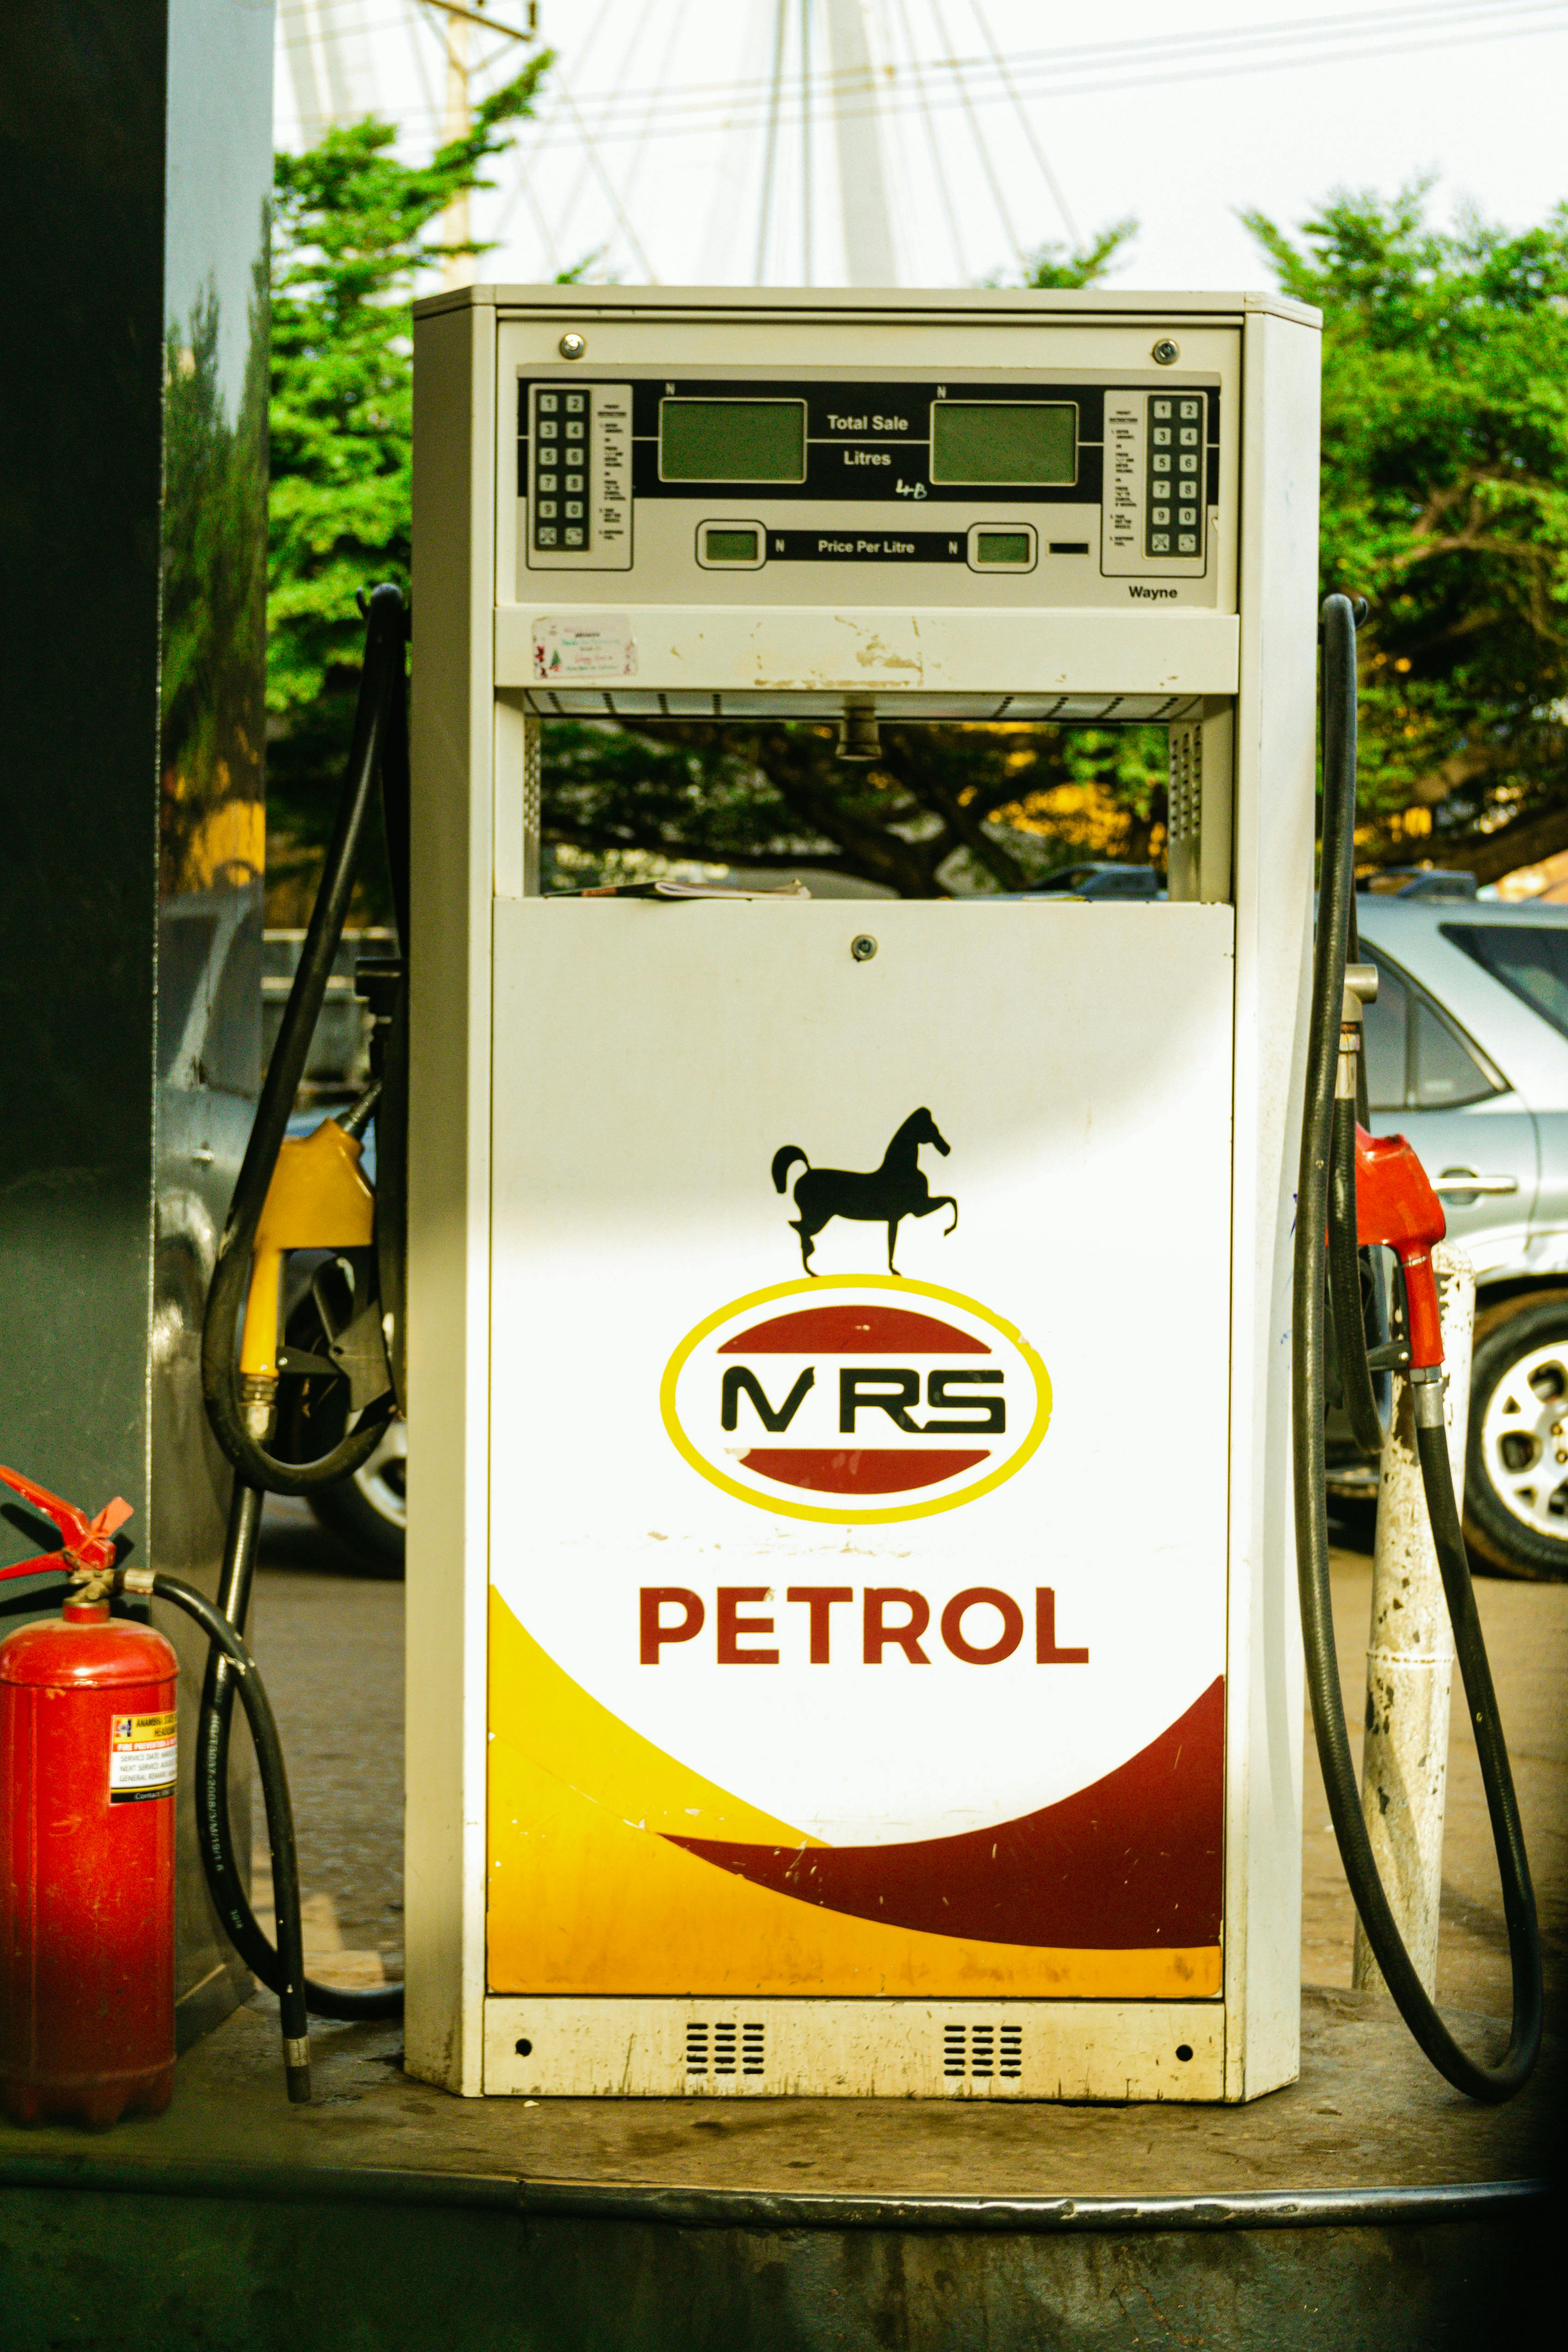extintor: (0, 1447, 332, 2140)
